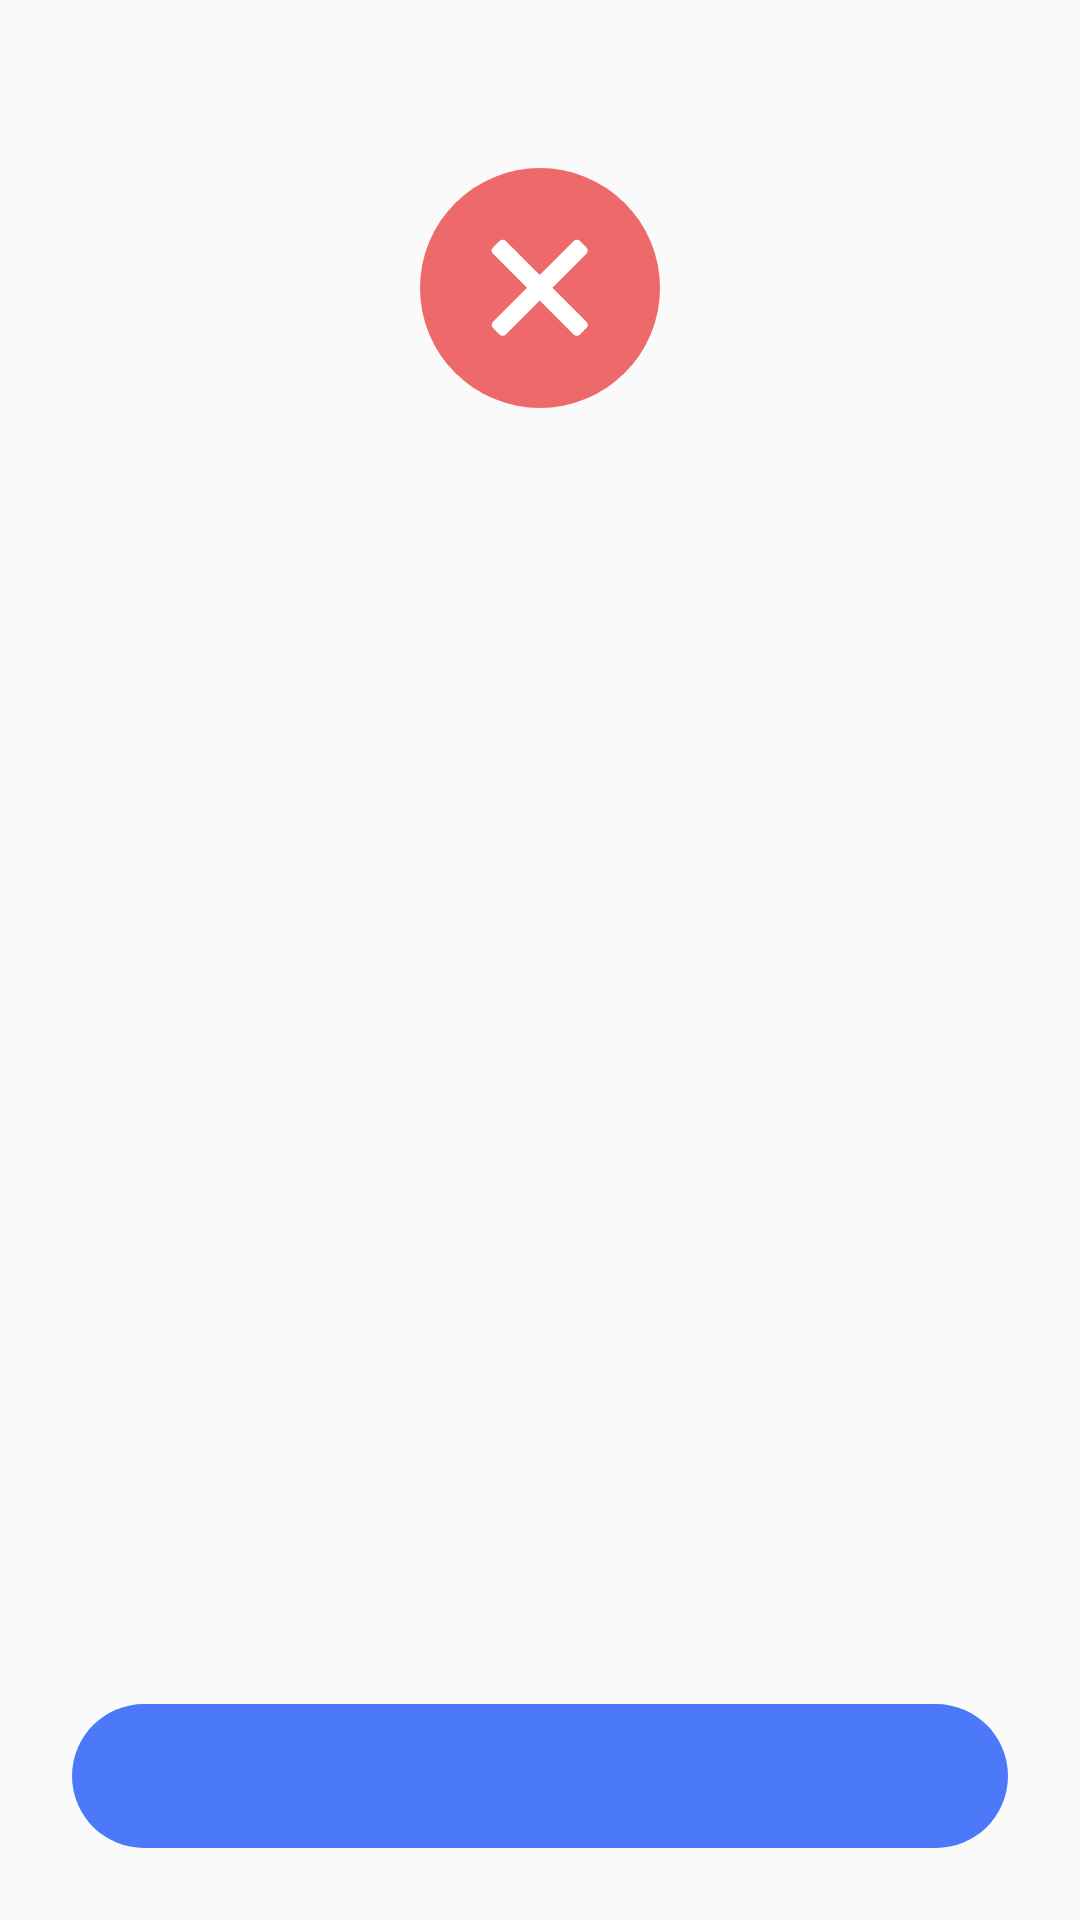

Where icons sit on this 1080x1920 app screen, as (x1, y1, x2, y2):
error: (420, 168, 660, 408)
